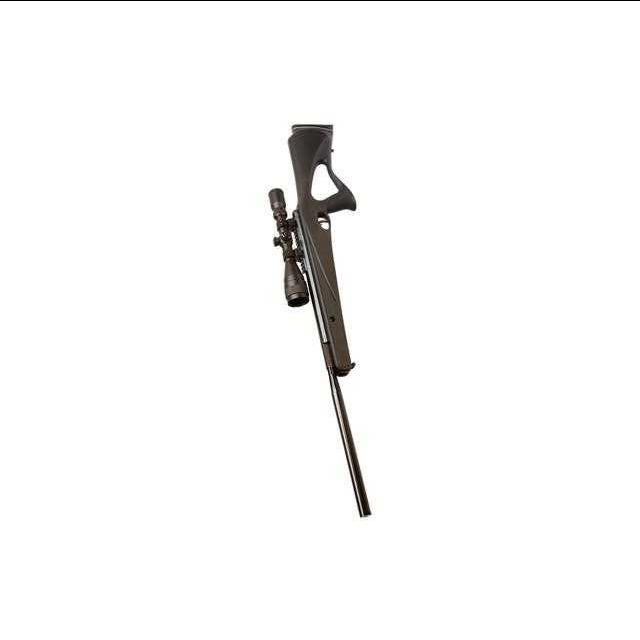heavyweapon: (242, 110, 422, 534)
